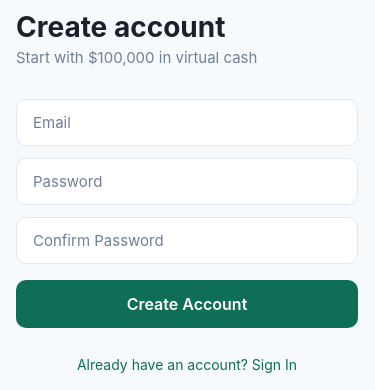
Test case: SignUpScreen › shows success message on sign up
Type "user@example.com" into the field with placeholder "Email" at (187, 122), box 16,98 -> 358,146
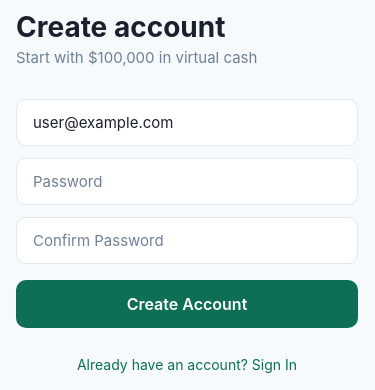
Type "password123" into the password field with placeholder "Password" at (187, 181), box 16,158 -> 358,204
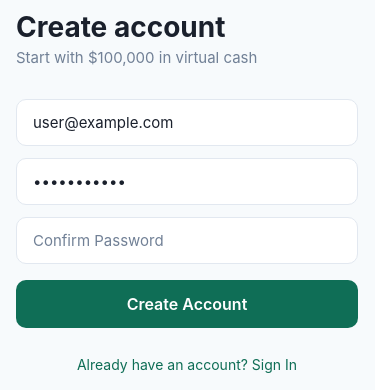
Type "password123" into the password field with placeholder "Confirm Password" at (187, 240), box 16,216 -> 358,264
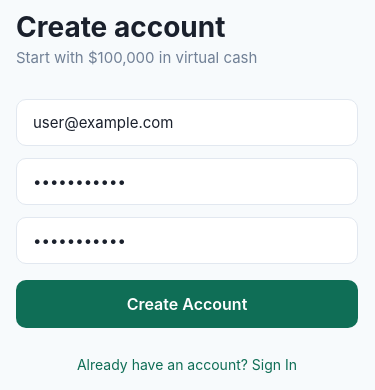
Click the text "Create Account" at (187, 304), box 127,294 -> 247,314
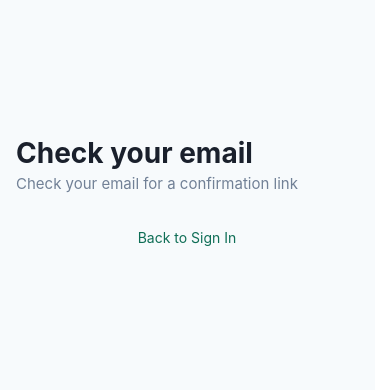
Expected: the text "Check your email for a confirmation link" is shown, 16,174 -> 298,193
